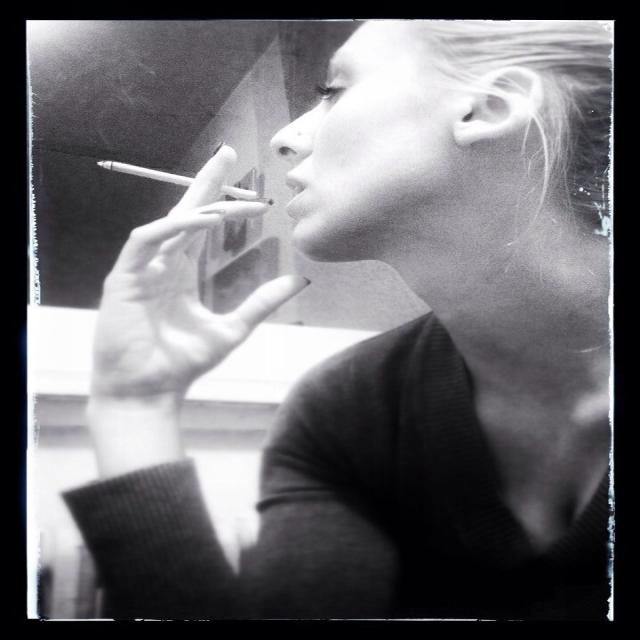cigarette: (91, 153, 270, 210)
